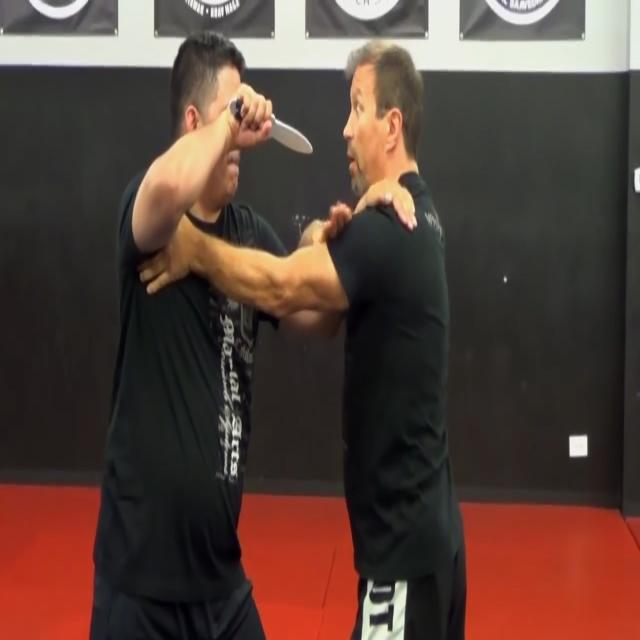knife: (229, 94, 316, 162)
